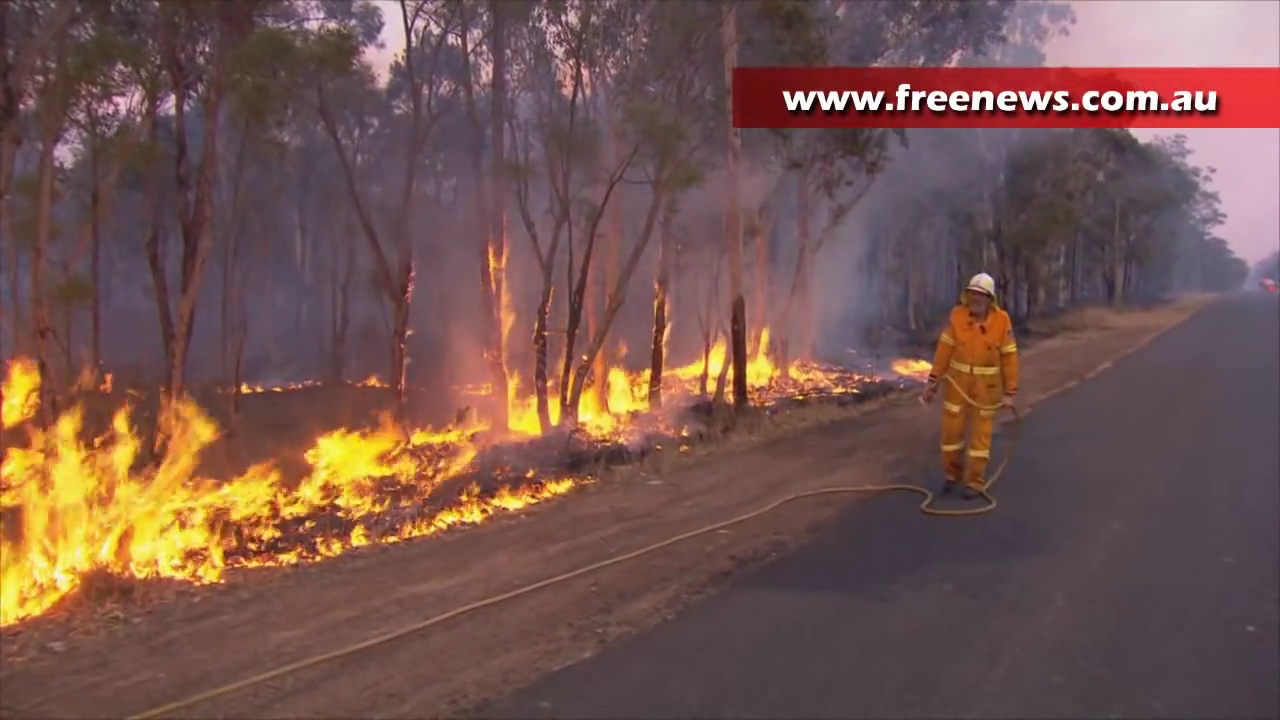fire: (1, 403, 473, 623), (504, 362, 648, 445), (694, 334, 827, 404), (3, 360, 38, 416), (499, 278, 515, 336), (894, 361, 931, 380)
